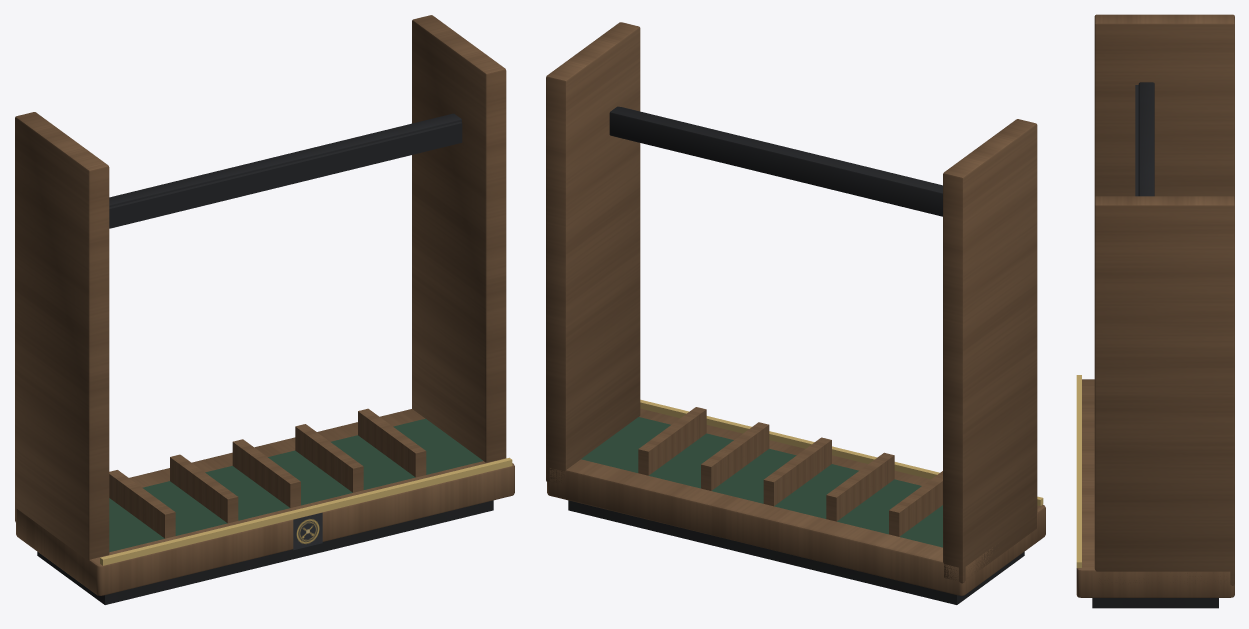
File: putter_rack.glb
3 renders of one model, left to right at view 1: azimuth 30°, elevation 25°; view 2: azimuth 150°, elevation 25°; view 3: azimuth 270°, elevation 25°, orthographic. The views are drawn at different scales.
Parts seen in each view (by area): view 1: Cheek_L, Cheek_R, Base, Base_Felt, Grip_Rail_Pad, Base_Kick, Brass_Trim, Grip_Rail, Groove_Divider_05, Groove_Divider_02, Groove_Divider_03, Groove_Divider_04 (+2 smaller); view 2: Cheek_L, Cheek_R, Base, Base_Felt, Grip_Rail, Base_Kick, Groove_Divider_02, Groove_Divider_04, Groove_Divider_05, Groove_Divider_03, Brass_Trim, Groove_Divider_01; view 3: Cheek_R, Cheek_L, Base, Grip_Rail, Base_Kick, Brass_Trim, Grip_Rail_Pad.
Part boxes in pixels (<box>): Cheek_L: <box>15,112,109,560</box>; Cheek_R: <box>412,15,506,462</box>; Base: <box>16,409,514,595</box>; Base_Felt: <box>109,418,482,552</box>; Grip_Rail_Pad: <box>109,121,462,228</box>; Base_Kick: <box>37,500,493,604</box>; Brass_Trim: <box>100,457,512,565</box>; Grip_Rail: <box>109,113,461,207</box>; Groove_Divider_05: <box>358,408,426,477</box>; Groove_Divider_02: <box>170,454,238,523</box>; Groove_Divider_03: <box>232,439,300,507</box>; Groove_Divider_04: <box>295,424,363,492</box>; Cheek_L: <box>943,119,1037,583</box>; Cheek_R: <box>546,22,640,483</box>; Base: <box>547,408,1045,595</box>; Base_Felt: <box>581,417,942,547</box>; Grip_Rail: <box>609,106,942,216</box>; Base_Kick: <box>568,500,1024,604</box>; Groove_Divider_02: <box>826,452,894,521</box>; Groove_Divider_04: <box>701,422,769,490</box>; Groove_Divider_05: <box>638,407,706,475</box>; Groove_Divider_03: <box>763,437,831,506</box>; Brass_Trim: <box>640,399,1043,505</box>; Groove_Divider_01: <box>889,471,942,536</box>; Cheek_R: <box>1094,196,1234,585</box>; Cheek_L: <box>1094,14,1234,197</box>; Base: <box>1076,379,1234,597</box>; Grip_Rail: <box>1138,82,1154,196</box>; Base_Kick: <box>1092,598,1218,608</box>; Brass_Trim: <box>1076,375,1081,567</box>; Grip_Rail_Pad: <box>1135,85,1138,196</box>.
Size of the model in its own units: 1 by 1 by 0.3512.
Materials: 8 (4 with a texture image).
